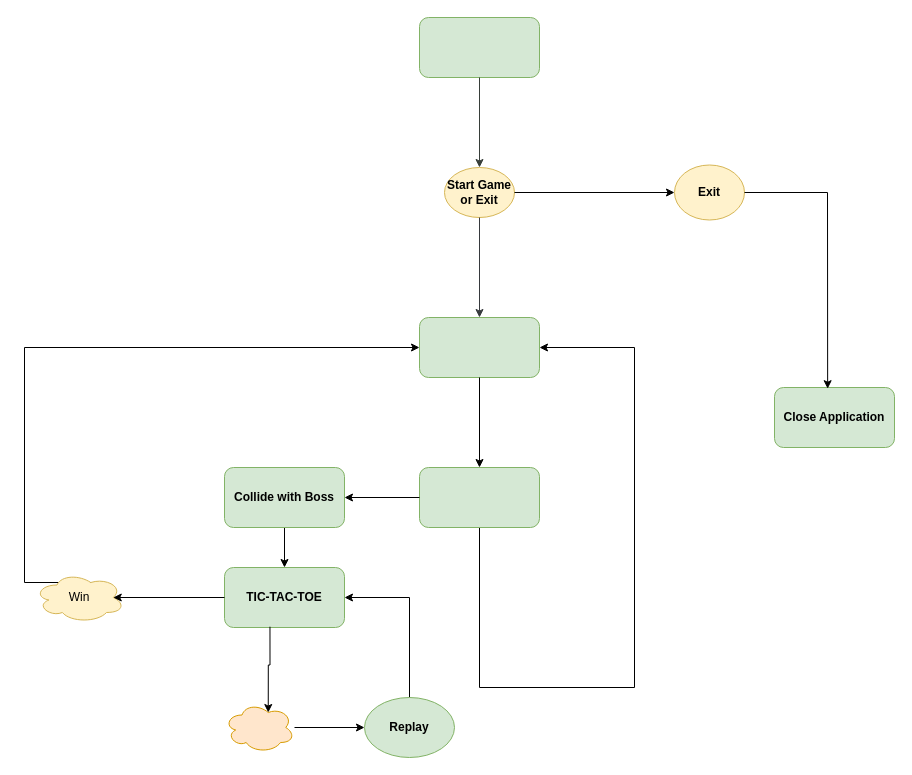
This 912x775 diagram has some shape labels left out. Here are the shapes that lost their labels. From the top down, the centre of each, then its label:
At pixel 479 47: "Start Game Screen".
At pixel 479 347: "Run Game".
At pixel 479 497: "Player".
At pixel 259 727: "Lose".
